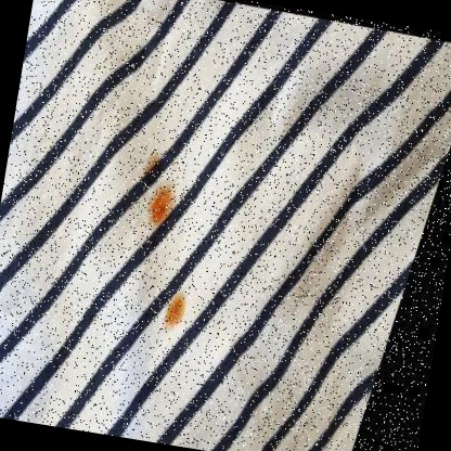kimchi: (142, 179, 179, 227), (164, 292, 190, 334), (140, 150, 161, 169)
